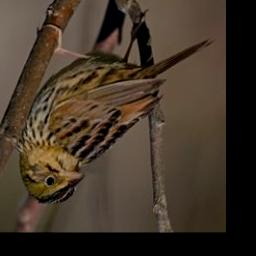Sparrow: (13, 9, 218, 207)
